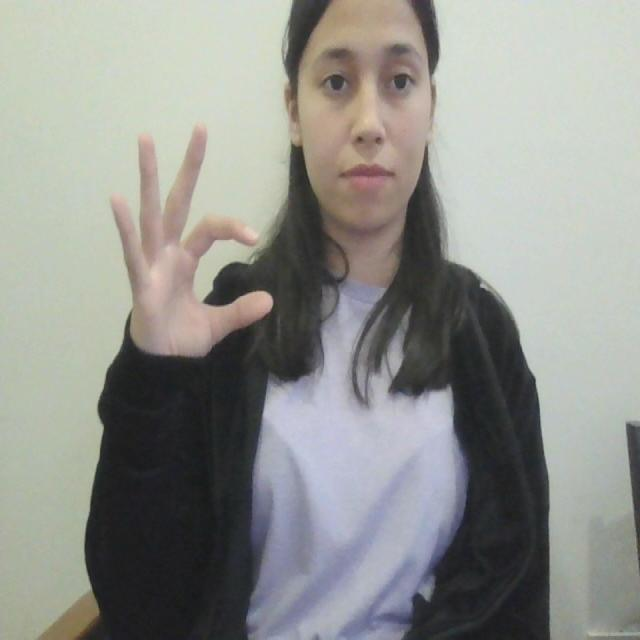Tuvalet: (96, 106, 291, 385)
